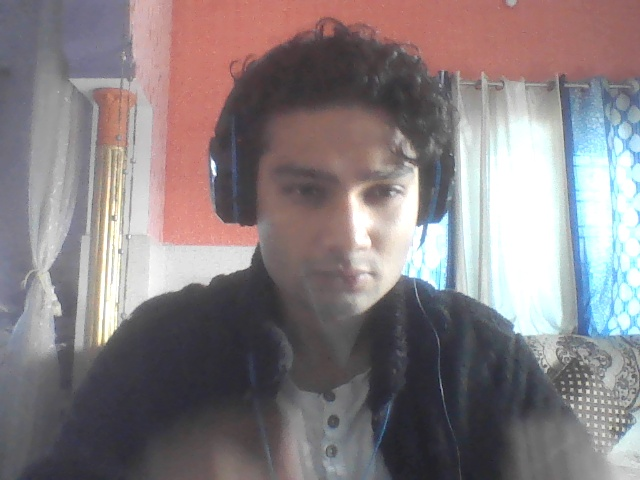real: (220, 27, 443, 343)
